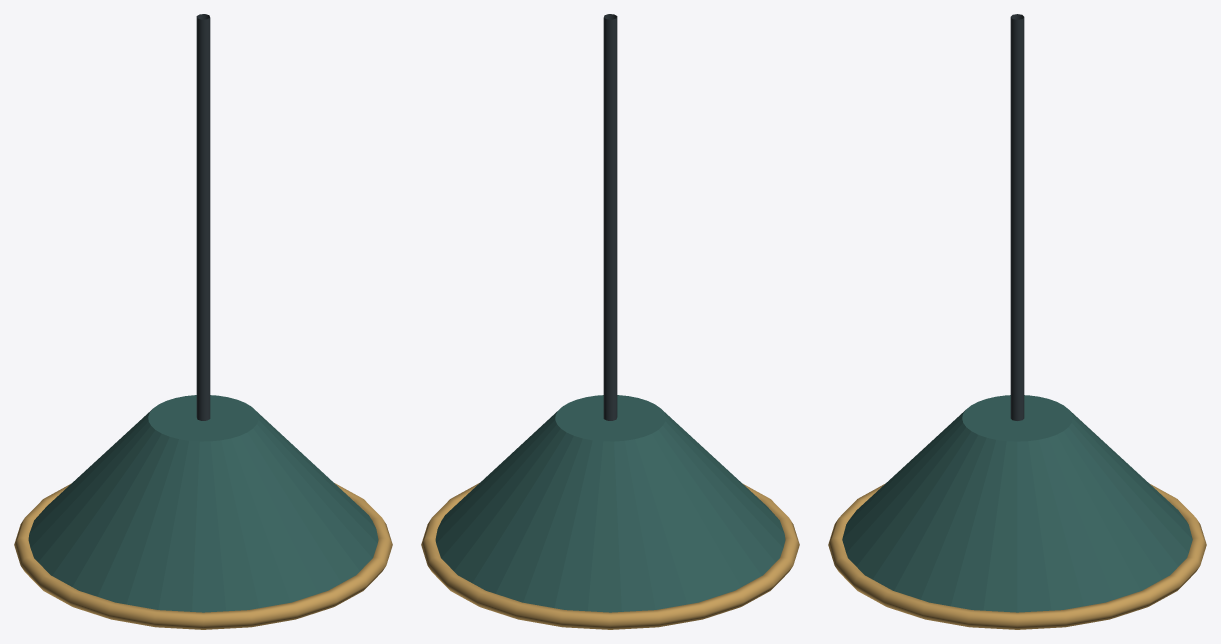
The picture shows the model from 3 angles, left to right: view 1: azimuth 30°, elevation 25°; view 2: azimuth 150°, elevation 25°; view 3: azimuth 270°, elevation 25°; orthographic projection.
Visible parts, largest first — view 1: workshop_teal_dark, workshop_brass, workshop_steel_dark; view 2: workshop_teal_dark, workshop_brass, workshop_steel_dark; view 3: workshop_teal_dark, workshop_brass, workshop_steel_dark.
Boxes of the visible parts, x1,y1,x2,y2 form: workshop_teal_dark: (28,395,378,612); workshop_brass: (14,483,392,629); workshop_steel_dark: (196,14,210,420); workshop_teal_dark: (435,395,785,612); workshop_brass: (421,483,799,629); workshop_steel_dark: (603,14,617,420); workshop_teal_dark: (842,395,1192,612); workshop_brass: (828,483,1206,629); workshop_steel_dark: (1010,14,1024,420).
Size of the model in its own units: 0.65 by 1.01 by 0.65.
